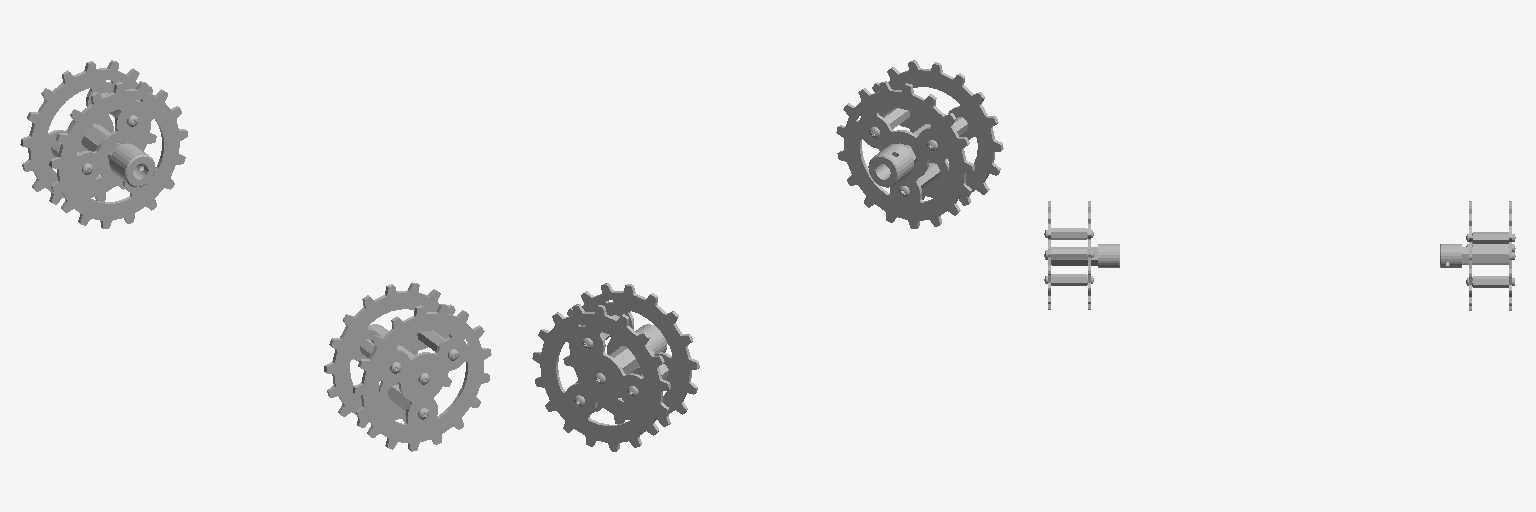
robot.urdf — model:
<?xml version="1.0" encoding="utf-8"?>
<!-- This URDF was automatically created by SolidWorks to URDF Exporter! Originally created by [author] ([email redacted]) 
     Commit Version: 1.5.1-0-g916b5db  Build Version: 1.5.7152.31018
     For more information, please see http://wiki.ros.org/sw_urdf_exporter -->
<robot
  name="model">
  <link
    name="chassis">
    <inertial>
      <origin
        xyz="-0.019165 4.9915E-05 0.069673"
        rpy="0 0 0" />
      <mass
        value="0.99903" />
      <inertia
        ixx="0.00081644"
        ixy="-4.489E-09"
        ixz="8.1238E-06"
        iyy="0.0023138"
        iyz="-1.2828E-09"
        izz="0.0029163" />
    </inertial>
    <visual>
      <origin
        xyz="0 0 0"
        rpy="0 0 0" />
      <geometry>
        <mesh
          filename="package://model/meshes/chassis.STL" />
      </geometry>
      <material
        name="">
        <color
          rgba="0.64706 0.61961 0.58824 1" />
      </material>
    </visual>
    <collision>
      <origin
        xyz="0 0 0"
        rpy="0 0 0" />
      <geometry>
        <mesh
          filename="package://model/meshes/chassis.STL" />
      </geometry>
    </collision>
  </link>
  <link
    name="R_BCD">
    <inertial>
      <origin
        xyz="-1.4807E-06 -3.1788E-05 -0.003944"
        rpy="0 0 0" />
      <mass
        value="0.036285" />
      <inertia
        ixx="3.9446E-06"
        ixy="-2.7291E-09"
        ixz="-5.1243E-09"
        iyy="3.9498E-06"
        iyz="-1.6836E-09"
        izz="4.4119E-06" />
    </inertial>
    <visual>
      <origin
        xyz="0 0 0"
        rpy="0 0 0" />
      <geometry>
        <mesh
          filename="package://model/meshes/R_BCD.STL" />
      </geometry>
      <material
        name="">
        <color
          rgba="0.75294 0.75294 0.75294 1" />
      </material>
    </visual>
    <collision>
      <origin
        xyz="0 0 0"
        rpy="0 0 0" />
      <geometry>
        <mesh
          filename="package://model/meshes/R_BCD.STL" />
      </geometry>
    </collision>
  </link>
  <joint
    name="R_BCD_joint"
    type="continuous">
    <origin
      xyz="-0.10835 0.103 0.05996"
      rpy="-1.5708 0 0" />
    <parent
      link="chassis" />
    <child
      link="R_BCD" />
    <axis
      xyz="0 0 1" />
    <limit
      effort="0"
      velocity="10" />
  </joint>
  <link
    name="L_BCD">
    <inertial>
      <origin
        xyz="2.5424E-05 1.1495E-06 0.003944"
        rpy="0 0 0" />
      <mass
        value="0.036285" />
      <inertia
        ixx="3.9491E-06"
        ixy="-3.2707E-09"
        ixz="-2.2853E-09"
        iyy="3.9453E-06"
        iyz="-4.8858E-09"
        izz="4.4119E-06" />
    </inertial>
    <visual>
      <origin
        xyz="0 0 0"
        rpy="0 0 0" />
      <geometry>
        <mesh
          filename="package://model/meshes/L_BCD.STL" />
      </geometry>
      <material
        name="">
        <color
          rgba="0.75294 0.75294 0.75294 1" />
      </material>
    </visual>
    <collision>
      <origin
        xyz="0 0 0"
        rpy="0 0 0" />
      <geometry>
        <mesh
          filename="package://model/meshes/L_BCD.STL" />
      </geometry>
    </collision>
  </link>
  <joint
    name="L_BCD_joint"
    type="continuous">
    <origin
      xyz="-0.10836 -0.103 0.059982"
      rpy="-1.5708 0 0" />
    <parent
      link="chassis" />
    <child
      link="L_BCD" />
    <axis
      xyz="0 0 1" />
    <limit
      effort="0"
      velocity="10" />
  </joint>
  <link
    name="R_BBD1">
    <inertial>
      <origin
        xyz="7.28277847777958E-07 2.32009663231336E-07 3.51072001136821E-07"
        rpy="0 0 0" />
      <mass
        value="0.0181510227398189" />
      <inertia
        ixx="1.46983823144334E-06"
        ixy="-2.33658940819177E-11"
        ixz="-3.69944187591677E-11"
        iyy="1.4699043173567E-06"
        iyz="-1.1775439002061E-11"
        izz="2.73993560788191E-06" />
    </inertial>
    <visual>
      <origin
        xyz="0 0 0"
        rpy="0 0 0" />
      <geometry>
        <mesh
          filename="package://model/meshes/R_BBD1.STL" />
      </geometry>
      <material
        name="">
        <color
          rgba="0.298039215686275 0.298039215686275 0.298039215686275 1" />
      </material>
    </visual>
    <collision>
      <origin
        xyz="0 0 0"
        rpy="0 0 0" />
      <geometry>
        <mesh
          filename="package://model/meshes/R_BBD1.STL" />
      </geometry>
    </collision>
  </link>
  <joint
    name="R_BBD1_joint"
    type="continuous">
    <origin
      xyz="-0.074331 0.103 0.025"
      rpy="-1.5708 0 0" />
    <parent
      link="chassis" />
    <child
      link="R_BBD1" />
    <axis
      xyz="0 0 1" />
    <limit
      effort="0"
      velocity="10" />
  </joint>
  <link
    name="R_BBD2">
    <inertial>
      <origin
        xyz="-7.5483E-07 1.2019E-07 3.5107E-07"
        rpy="0 0 0" />
      <mass
        value="0.018151" />
      <inertia
        ixx="1.4698E-06"
        ixy="1.2619E-11"
        ixz="3.8339E-11"
        iyy="1.4699E-06"
        iyz="-6.114E-12"
        izz="2.7399E-06" />
    </inertial>
    <visual>
      <origin
        xyz="0 0 0"
        rpy="0 0 0" />
      <geometry>
        <mesh
          filename="package://model/meshes/R_BBD2.STL" />
      </geometry>
      <material
        name="">
        <color
          rgba="0.29804 0.29804 0.29804 1" />
      </material>
    </visual>
    <collision>
      <origin
        xyz="0 0 0"
        rpy="0 0 0" />
      <geometry>
        <mesh
          filename="package://model/meshes/R_BBD2.STL" />
      </geometry>
    </collision>
  </link>
  <joint
    name="R_BBD2_joint"
    type="continuous">
    <origin
      xyz="-0.030331 0.103 0.077"
      rpy="-1.5708 0 0" />
    <parent
      link="chassis" />
    <child
      link="R_BBD2" />
    <axis
      xyz="0 0 1" />
    <limit
      effort="0"
      velocity="10" />
  </joint>
  <link
    name="R_BBD3">
    <inertial>
      <origin
        xyz="7.46785111856857E-07 1.62877574073905E-07 3.51072001192332E-07"
        rpy="0 0 0" />
      <mass
        value="0.0181510227398189" />
      <inertia
        ixx="1.4698344579235E-06"
        ixy="-1.68032451889584E-11"
        ixz="-3.79336006985298E-11"
        iyy="1.46990809087654E-06"
        iyz="-8.26377159529317E-12"
        izz="2.73993560788191E-06" />
    </inertial>
    <visual>
      <origin
        xyz="0 0 0"
        rpy="0 0 0" />
      <geometry>
        <mesh
          filename="package://model/meshes/R_BBD3.STL" />
      </geometry>
      <material
        name="">
        <color
          rgba="0.298039215686275 0.298039215686275 0.298039215686275 1" />
      </material>
    </visual>
    <collision>
      <origin
        xyz="0 0 0"
        rpy="0 0 0" />
      <geometry>
        <mesh
          filename="package://model/meshes/R_BBD3.STL" />
      </geometry>
    </collision>
  </link>
  <joint
    name="R_BBD3_joint"
    type="continuous">
    <origin
      xyz="0.010169 0.103 0.025"
      rpy="-1.5708 0 0" />
    <parent
      link="chassis" />
    <child
      link="R_BBD3" />
    <axis
      xyz="0 0 1" />
    <limit
      effort="0"
      velocity="10" />
  </joint>
  <link
    name="R_BBD4">
    <inertial>
      <origin
        xyz="6.5481E-07 3.9426E-07 3.5107E-07"
        rpy="0 0 0" />
      <mass
        value="0.018151" />
      <inertia
        ixx="1.4699E-06"
        ixy="-3.5742E-11"
        ixz="-3.3265E-11"
        iyy="1.4699E-06"
        iyz="-2.0018E-11"
        izz="2.7399E-06" />
    </inertial>
    <visual>
      <origin
        xyz="0 0 0"
        rpy="0 0 0" />
      <geometry>
        <mesh
          filename="package://model/meshes/R_BBD4.STL" />
      </geometry>
      <material
        name="">
        <color
          rgba="0.29804 0.29804 0.29804 1" />
      </material>
    </visual>
    <collision>
      <origin
        xyz="0 0 0"
        rpy="0 0 0" />
      <geometry>
        <mesh
          filename="package://model/meshes/R_BBD4.STL" />
      </geometry>
    </collision>
  </link>
  <joint
    name="R_BBD4_joint"
    type="continuous">
    <origin
      xyz="0.0946689177586958 0.103000000000001 0.0249996971806272"
      rpy="-1.5707963267949 0 0" />
    <parent
      link="chassis" />
    <child
      link="R_BBD4" />
    <axis
      xyz="0 0 1" />
    <limit
      effort="0"
      velocity="10" />
  </joint>
  <link
    name="R_BBD5">
    <inertial>
      <origin
        xyz="7.5147755218552E-07 1.39637373049867E-07 3.51072001164576E-07"
        rpy="0 0 0" />
      <mass
        value="0.0181510227398189" />
      <inertia
        ixx="1.46983348693769E-06"
        ixy="-1.44882601873531E-11"
        ixz="-3.81716552756468E-11"
        iyy="1.46990906186235E-06"
        iyz="-7.08327000155154E-12"
        izz="2.73993560788191E-06" />
    </inertial>
    <visual>
      <origin
        xyz="0 0 0"
        rpy="0 0 0" />
      <geometry>
        <mesh
          filename="package://model/meshes/R_BBD5.STL" />
      </geometry>
      <material
        name="">
        <color
          rgba="0.298039215686275 0.298039215686275 0.298039215686275 1" />
      </material>
    </visual>
    <collision>
      <origin
        xyz="0 0 0"
        rpy="0 0 0" />
      <geometry>
        <mesh
          filename="package://model/meshes/R_BBD5.STL" />
      </geometry>
    </collision>
  </link>
  <joint
    name="R_BBD5_joint"
    type="continuous">
    <origin
      xyz="0.12967 0.103 0.062"
      rpy="-1.5708 0 0" />
    <parent
      link="chassis" />
    <child
      link="R_BBD5" />
    <axis
      xyz="0 0 1" />
    <limit
      effort="0"
      velocity="10" />
  </joint>
  <link
    name="L_BBD1">
    <inertial>
      <origin
        xyz="-1.7175E-07 -7.4479E-07 -3.5107E-07"
        rpy="0 0 0" />
      <mass
        value="0.018151" />
      <inertia
        ixx="1.4699E-06"
        ixy="-1.7675E-11"
        ixz="-8.7146E-12"
        iyy="1.4698E-06"
        iyz="-3.7833E-11"
        izz="2.7399E-06" />
    </inertial>
    <visual>
      <origin
        xyz="0 0 0"
        rpy="0 0 0" />
      <geometry>
        <mesh
          filename="package://model/meshes/L_BBD1.STL" />
      </geometry>
      <material
        name="">
        <color
          rgba="0.29804 0.29804 0.29804 1" />
      </material>
    </visual>
    <collision>
      <origin
        xyz="0 0 0"
        rpy="0 0 0" />
      <geometry>
        <mesh
          filename="package://model/meshes/L_BBD1.STL" />
      </geometry>
    </collision>
  </link>
  <joint
    name="L_BBD1_joint"
    type="continuous">
    <origin
      xyz="-0.074331 -0.103 0.025"
      rpy="-1.5708 0 0" />
    <parent
      link="chassis" />
    <child
      link="L_BBD1" />
    <axis
      xyz="0 0 1" />
    <limit
      effort="0"
      velocity="10" />
  </joint>
  <link
    name="L_BBD2">
    <inertial>
      <origin
        xyz="-7.6209E-07 5.8592E-08 -3.5107E-07"
        rpy="0 0 0" />
      <mass
        value="0.018151" />
      <inertia
        ixx="1.4698E-06"
        ixy="6.1336E-12"
        ixz="-3.871E-11"
        iyy="1.4699E-06"
        iyz="2.9666E-12"
        izz="2.7399E-06" />
    </inertial>
    <visual>
      <origin
        xyz="0 0 0"
        rpy="0 0 0" />
      <geometry>
        <mesh
          filename="package://model/meshes/L_BBD2.STL" />
      </geometry>
      <material
        name="">
        <color
          rgba="0.29804 0.29804 0.29804 1" />
      </material>
    </visual>
    <collision>
      <origin
        xyz="0 0 0"
        rpy="0 0 0" />
      <geometry>
        <mesh
          filename="package://model/meshes/L_BBD2.STL" />
      </geometry>
    </collision>
  </link>
  <joint
    name="L_BBD2_joint"
    type="continuous">
    <origin
      xyz="-0.030331 -0.103 0.077"
      rpy="-1.5708 0 0" />
    <parent
      link="chassis" />
    <child
      link="L_BBD2" />
    <axis
      xyz="0 0 1" />
    <limit
      effort="0"
      velocity="10" />
  </joint>
  <link
    name="L_BBD3">
    <inertial>
      <origin
        xyz="-5.1491E-08 -7.626E-07 -3.5107E-07"
        rpy="0 0 0" />
      <mass
        value="0.018151" />
      <inertia
        ixx="1.4699E-06"
        ixy="-5.3874E-12"
        ixz="-2.6059E-12"
        iyy="1.4698E-06"
        iyz="-3.8736E-11"
        izz="2.7399E-06" />
    </inertial>
    <visual>
      <origin
        xyz="0 0 0"
        rpy="0 0 0" />
      <geometry>
        <mesh
          filename="package://model/meshes/L_BBD3.STL" />
      </geometry>
      <material
        name="">
        <color
          rgba="0.29804 0.29804 0.29804 1" />
      </material>
    </visual>
    <collision>
      <origin
        xyz="0 0 0"
        rpy="0 0 0" />
      <geometry>
        <mesh
          filename="package://model/meshes/L_BBD3.STL" />
      </geometry>
    </collision>
  </link>
  <joint
    name="L_BBD3_joint"
    type="continuous">
    <origin
      xyz="0.010169 -0.103 0.025"
      rpy="-1.5708 0 0" />
    <parent
      link="chassis" />
    <child
      link="L_BBD3" />
    <axis
      xyz="0 0 1" />
    <limit
      effort="0"
      velocity="10" />
  </joint>
  <link
    name="L_BBD4">
    <inertial>
      <origin
        xyz="4.6032E-08 -7.6295E-07 -3.5107E-07"
        rpy="0 0 0" />
      <mass
        value="0.018151" />
      <inertia
        ixx="1.4699E-06"
        ixy="4.9186E-12"
        ixz="2.3476E-12"
        iyy="1.4698E-06"
        iyz="-3.8752E-11"
        izz="2.7399E-06" />
    </inertial>
    <visual>
      <origin
        xyz="0 0 0"
        rpy="0 0 0" />
      <geometry>
        <mesh
          filename="package://model/meshes/L_BBD4.STL" />
      </geometry>
      <material
        name="">
        <color
          rgba="0.29804 0.29804 0.29804 1" />
      </material>
    </visual>
    <collision>
      <origin
        xyz="0 0 0"
        rpy="0 0 0" />
      <geometry>
        <mesh
          filename="package://model/meshes/L_BBD4.STL" />
      </geometry>
    </collision>
  </link>
  <joint
    name="L_BBD4_joint"
    type="continuous">
    <origin
      xyz="0.094669 -0.103 0.025"
      rpy="-1.5708 0 0" />
    <parent
      link="chassis" />
    <child
      link="L_BBD4" />
    <axis
      xyz="0 0 1" />
    <limit
      effort="0"
      velocity="10" />
  </joint>
  <link
    name="L_BBD5">
    <inertial>
      <origin
        xyz="1.1695E-07 -7.5534E-07 -3.5107E-07"
        rpy="0 0 0" />
      <mass
        value="0.018151" />
      <inertia
        ixx="1.4699E-06"
        ixy="1.2289E-11"
        ixz="5.9496E-12"
        iyy="1.4698E-06"
        iyz="-3.8365E-11"
        izz="2.7399E-06" />
    </inertial>
    <visual>
      <origin
        xyz="0 0 0"
        rpy="0 0 0" />
      <geometry>
        <mesh
          filename="package://model/meshes/L_BBD5.STL" />
      </geometry>
      <material
        name="">
        <color
          rgba="0.29804 0.29804 0.29804 1" />
      </material>
    </visual>
    <collision>
      <origin
        xyz="0 0 0"
        rpy="0 0 0" />
      <geometry>
        <mesh
          filename="package://model/meshes/L_BBD5.STL" />
      </geometry>
    </collision>
  </link>
  <joint
    name="L_BBD5_joint"
    type="continuous">
    <origin
      xyz="0.12967 -0.103 0.062"
      rpy="-1.5708 0 0" />
    <parent
      link="chassis" />
    <child
      link="L_BBD5" />
    <axis
      xyz="0 0 1" />
    <limit
      effort="0"
      velocity="10" />
  </joint>
  <link
    name="lidar">
    <inertial>
      <origin
        xyz="-0.012128 0.00047915 -0.028964"
        rpy="0 0 0" />
      <mass
        value="0.17" />
      <inertia
        ixx="0.000154"
        ixy="-8.1854E-07"
        ixz="3.3663E-06"
        iyy="0.00018973"
        iyz="-7.5462E-08"
        izz="0.00032548" />
    </inertial>
    <visual>
      <origin
        xyz="0 0 0"
        rpy="0 0 0" />
      <geometry>
        <mesh
          filename="package://model/meshes/lidar.STL" />
      </geometry>
      <material
        name="">
        <color
          rgba="1 1 1 1" />
      </material>
    </visual>
    <collision>
      <origin
        xyz="0 0 0"
        rpy="0 0 0" />
      <geometry>
        <mesh
          filename="package://model/meshes/lidar.STL" />
      </geometry>
    </collision>
  </link>
  <joint
    name="lidar_joint"
    type="fixed">
    <origin
      xyz="0.00060691 0.00054999 0.2025"
      rpy="0 0 0" />
    <parent
      link="chassis" />
    <child
      link="lidar" />
    <axis
      xyz="0 0 0" />
  </joint>
</robot>

--- Facts derived from the render (not from the file) ---
Views: 3 orthographic renders of the robot side by side, from view 1: azimuth 30°, elevation 25°; view 2: azimuth 150°, elevation 25°; view 3: azimuth 270°, elevation 25°.
Robot: model — 14 links, 13 joints (12 continuous, 1 fixed); root link chassis; default pose: every joint at zero.
Links seen in each view (by area): view 1: L_BCD, R_BCD; view 2: R_BCD, L_BCD; view 3: R_BCD, L_BCD.
Boxes of the visible links, bbox=[...] form: L_BCD: bbox=[324, 282, 491, 451]; R_BCD: bbox=[20, 60, 187, 228]; R_BCD: bbox=[532, 283, 699, 451]; L_BCD: bbox=[836, 60, 1003, 228]; R_BCD: bbox=[1440, 201, 1515, 310]; L_BCD: bbox=[1044, 201, 1119, 309].
Bounding box of the posed robot: 0.0534 × 0.2301 × 0.0533 m (x, y, z).
Meshes: 14 distinct files referenced, 2 mesh visuals loaded (2 binary STL); not drawn: 12 (reference not matched to a file when rendering).